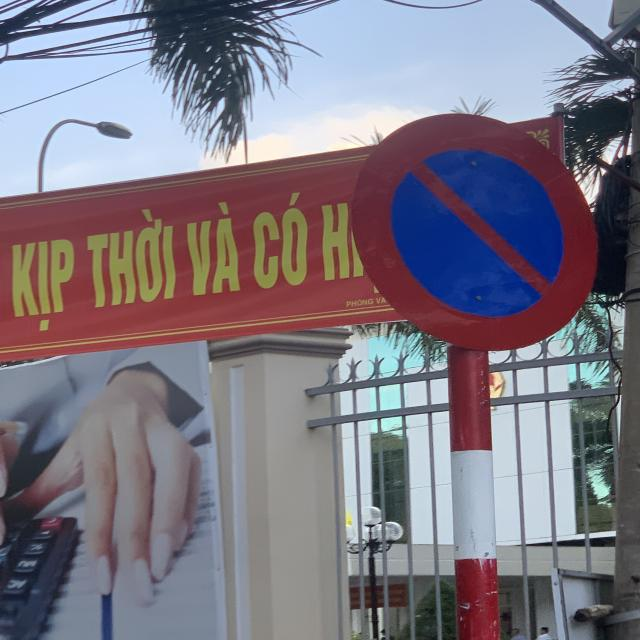Cam_Dau_Xe: (347, 112, 602, 351)
